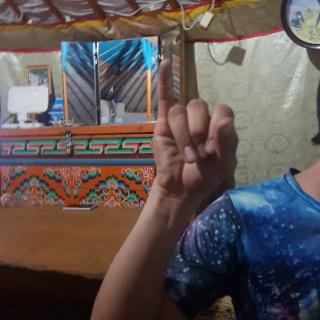MEEM: (147, 57, 239, 198)
